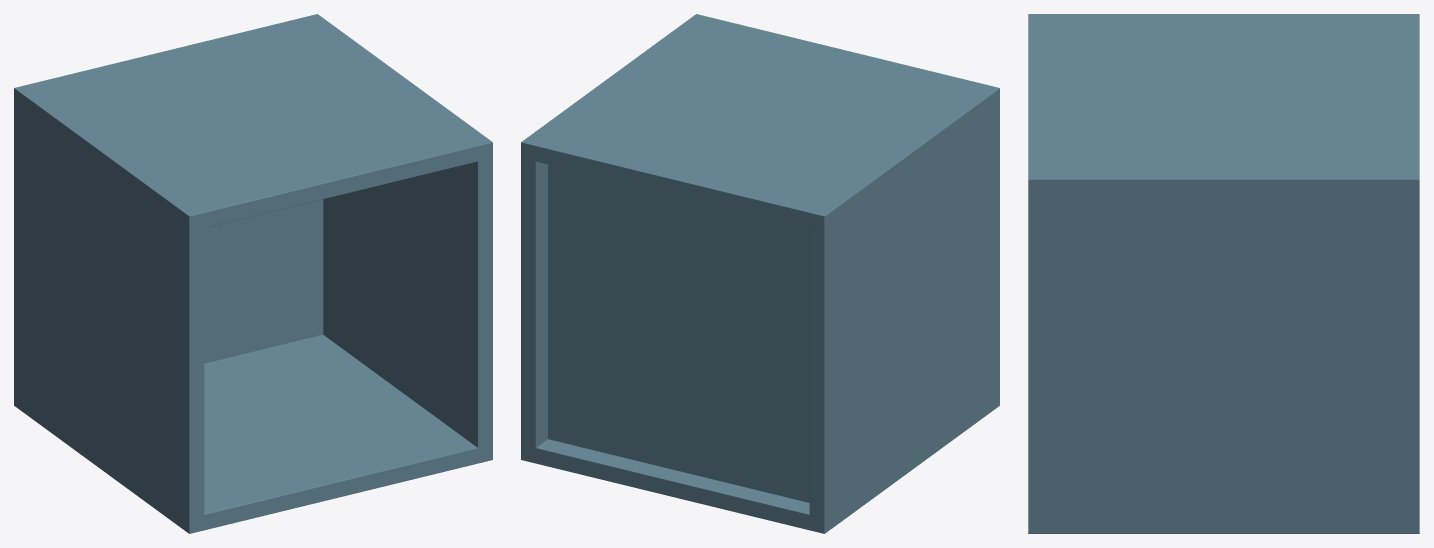
The model's file is MOD-1X1-A-B-AC.glb.
The picture shows the model from 3 angles, left to right: view 1: azimuth 30°, elevation 25°; view 2: azimuth 150°, elevation 25°; view 3: azimuth 270°, elevation 25°; orthographic projection. The views are drawn at different scales.
Size of the model in its own units: 360 by 360 by 360.
